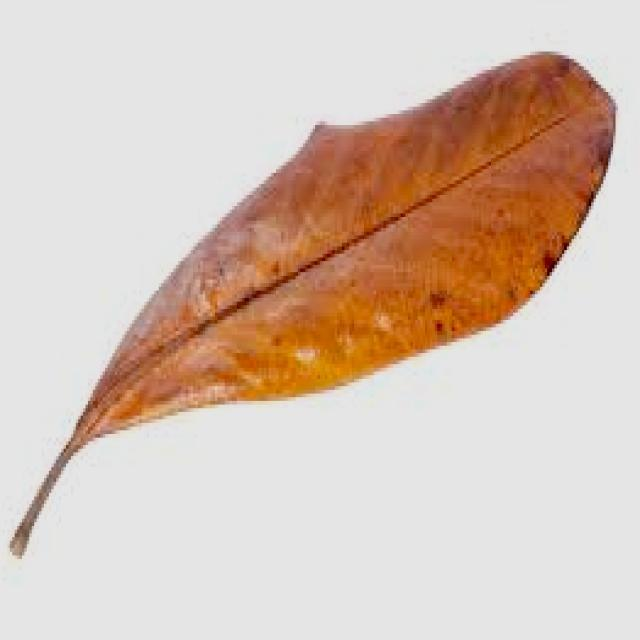leaf: (8, 49, 617, 558)
